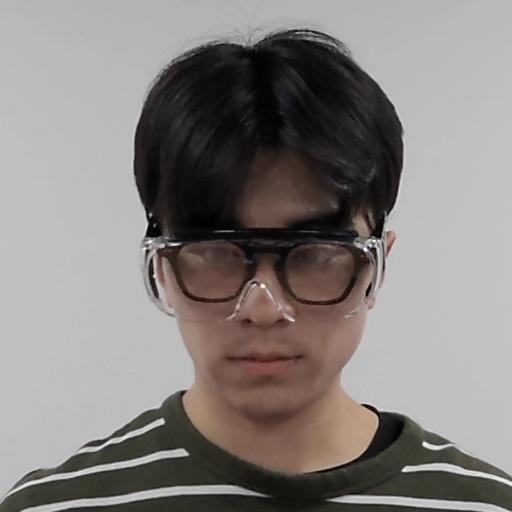glasses: (117, 30, 418, 421)
